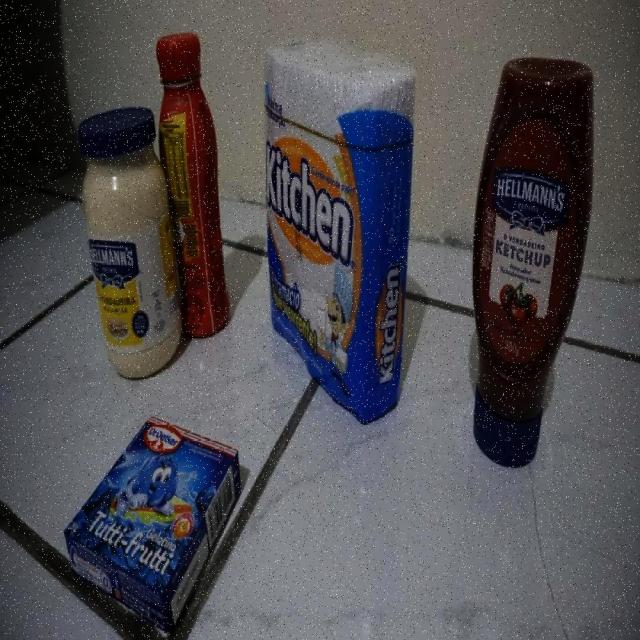ChocolateMilk: (156, 30, 231, 340)
Gelatine: (62, 411, 244, 640)
Ketchup: (471, 54, 598, 473)
Mayonnaise: (78, 104, 185, 380)
Napkin: (261, 32, 417, 425)
